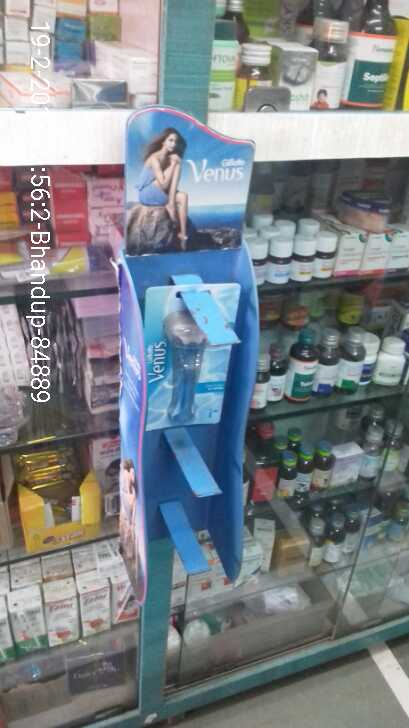venus: (137, 289, 235, 435)
